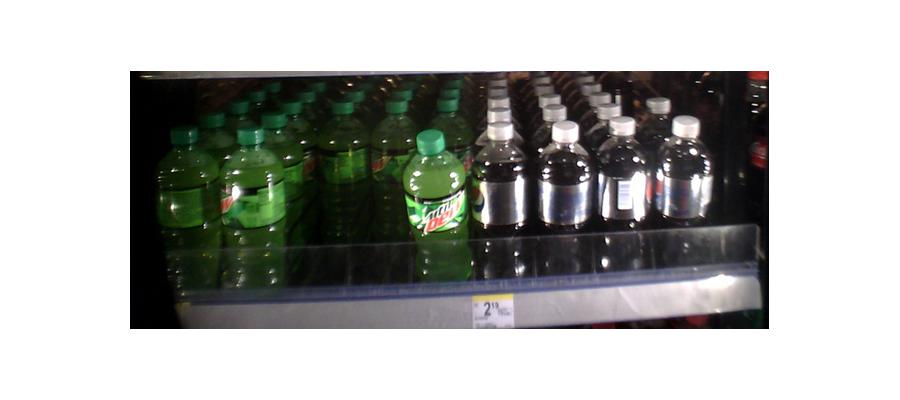bottle: (155, 126, 219, 305), (220, 125, 287, 291), (314, 104, 373, 282), (474, 115, 533, 285), (408, 129, 469, 287), (597, 111, 653, 273), (537, 120, 593, 278), (659, 117, 715, 257)
